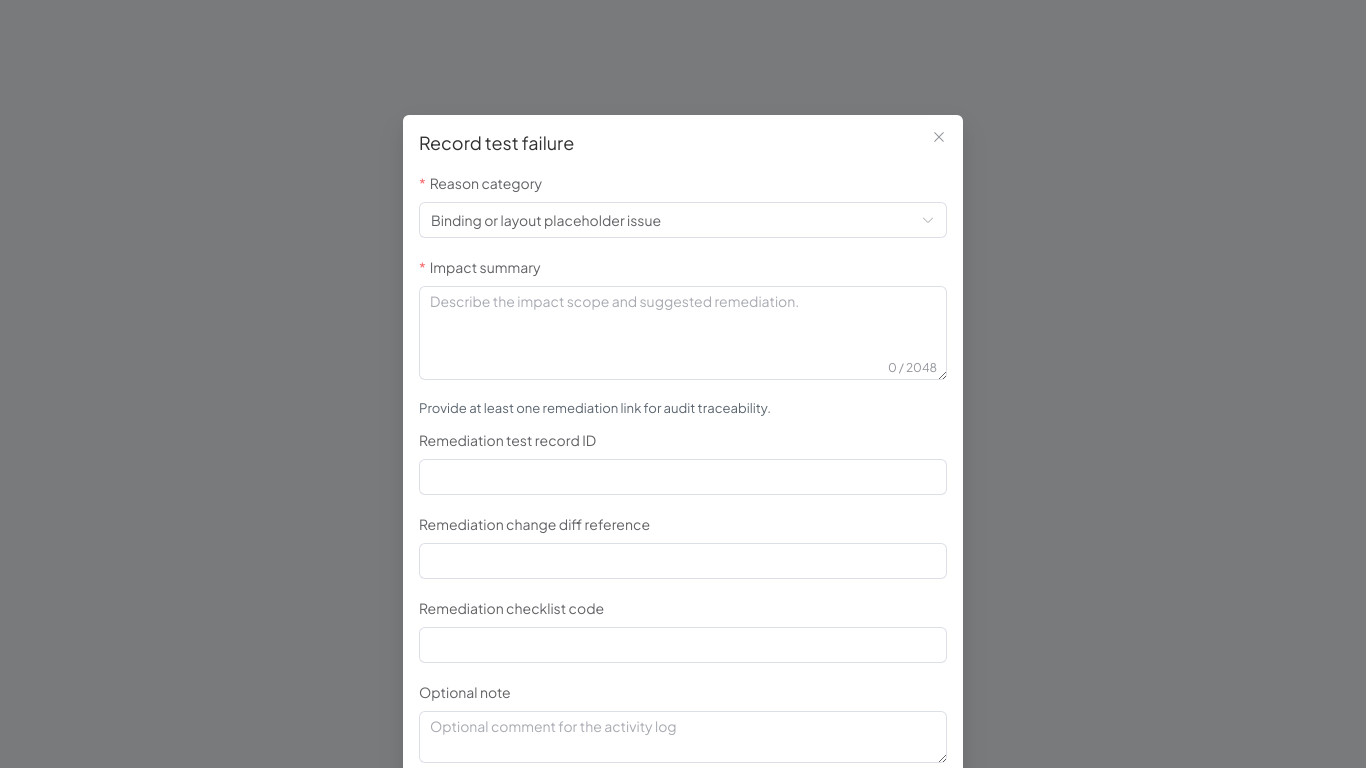
Scenario: TemplateLifecycleDecisionDialog › keeps test-fail submit disabled until remediation link is provided (AUD-B05)
The width and height of the screenshot is (1366, 768).
Type "Preview output mismatch." into the text box labelled "Impact summary". click: (683, 333)
box: [419, 286, 947, 380]
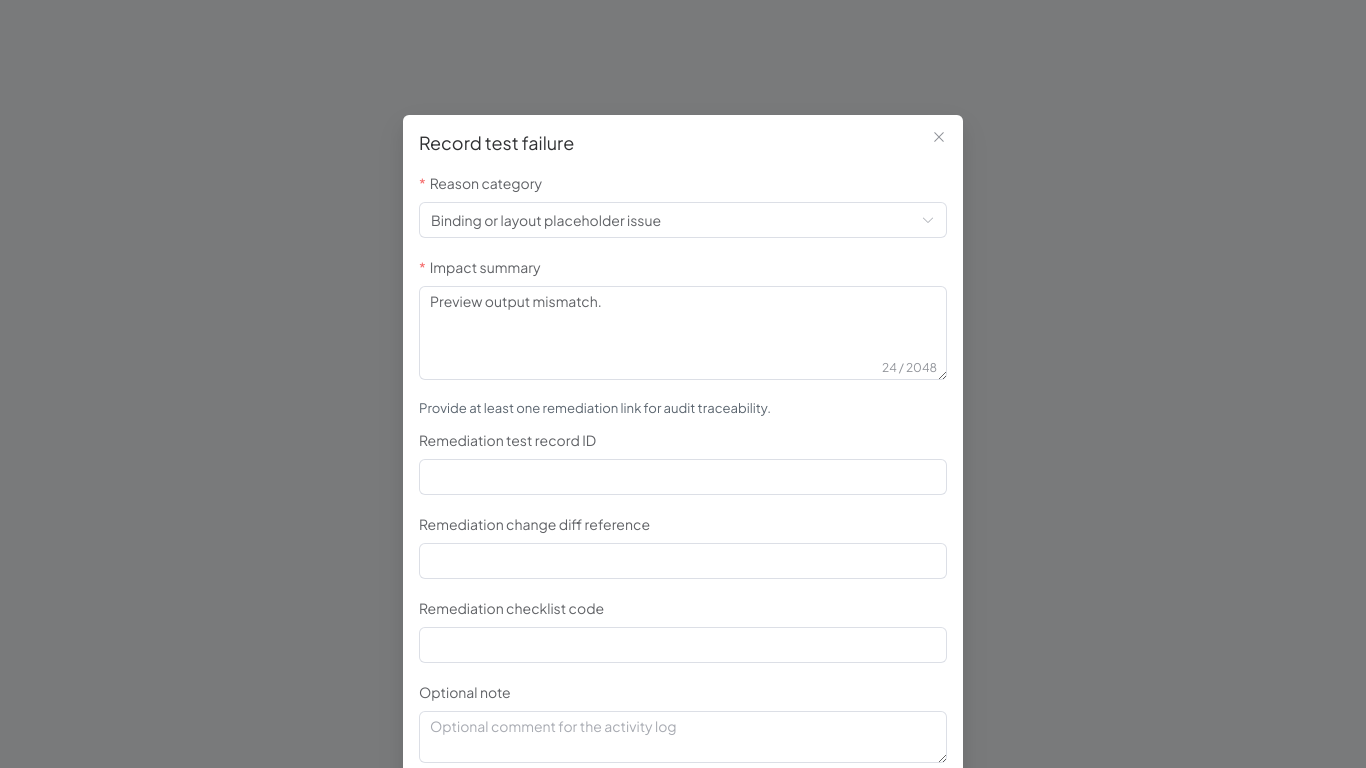
Type "PREVIEW_DIFF" into the field labelled "Remediation test record ID". click: (683, 477)
box: [430, 460, 936, 494]
(page scrolled)
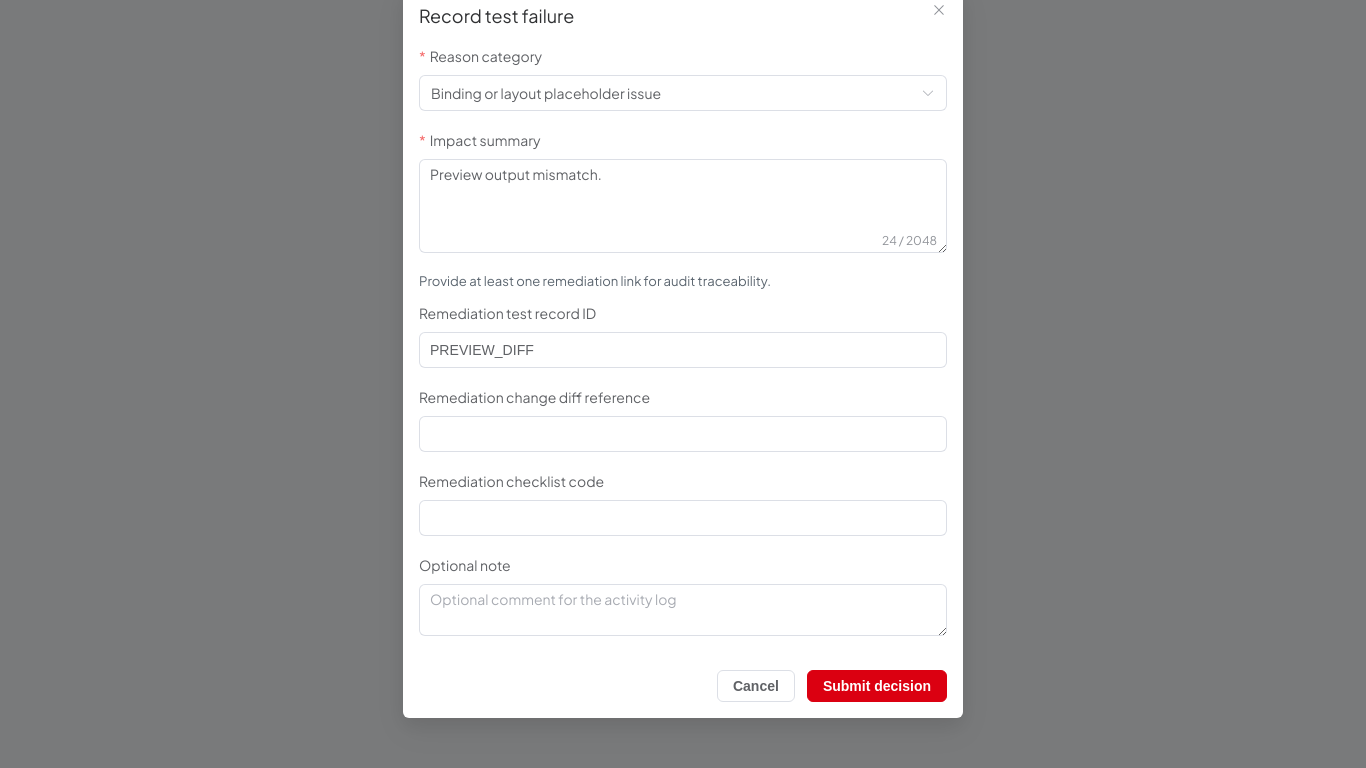
Check: the button "Submit decision" is enabled, box [807, 670, 947, 702]
